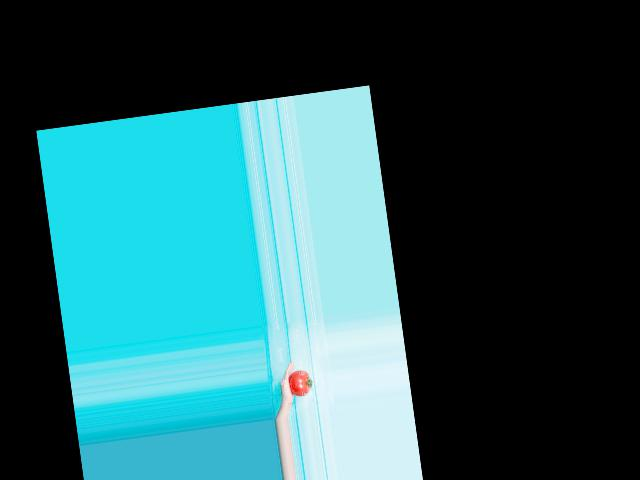tomato: (287, 368, 313, 397)
